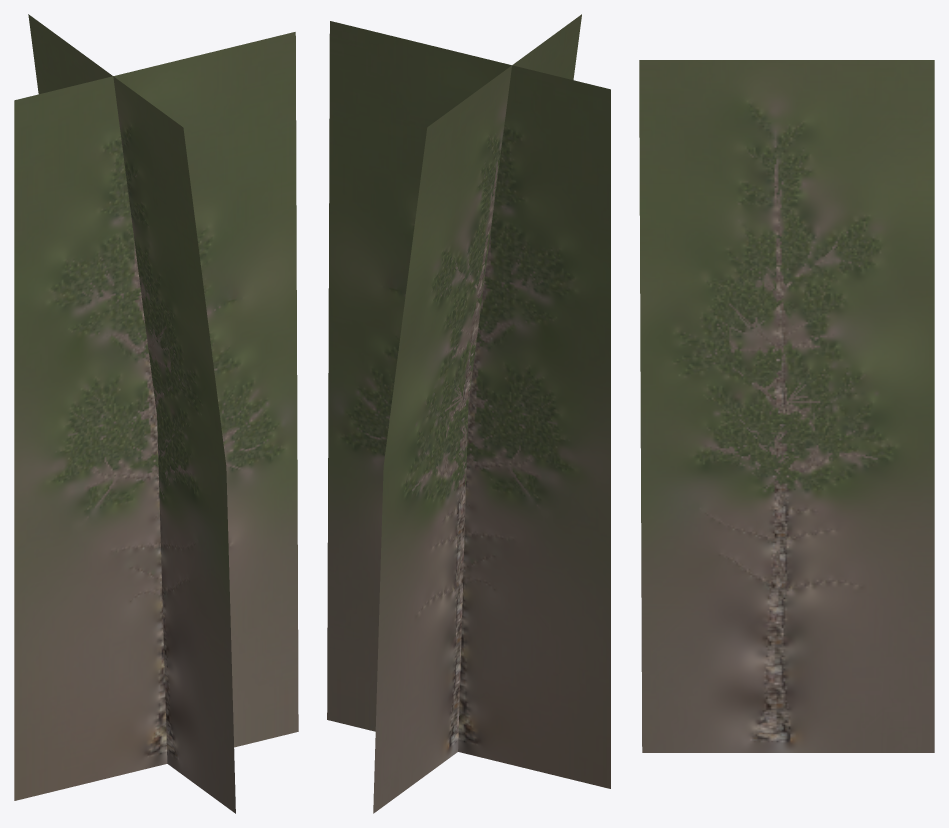
File: Billboard.fbx
The picture shows the model from 3 angles, left to right: view 1: azimuth 30°, elevation 25°; view 2: azimuth 150°, elevation 25°; view 3: azimuth 270°, elevation 25°; orthographic projection. The views are drawn at different scales.
Visible parts, largest first — view 1: BillboardCross; view 2: BillboardCross; view 3: BillboardCross.
Boxes of the visible parts, x1,y1,x2,y2 form: BillboardCross: [14, 14, 298, 813]; BillboardCross: [327, 14, 610, 813]; BillboardCross: [639, 60, 934, 752].
Size of the model in its own units: 34.96 by 82.4 by 33.06.
1 material, 1 textured.
